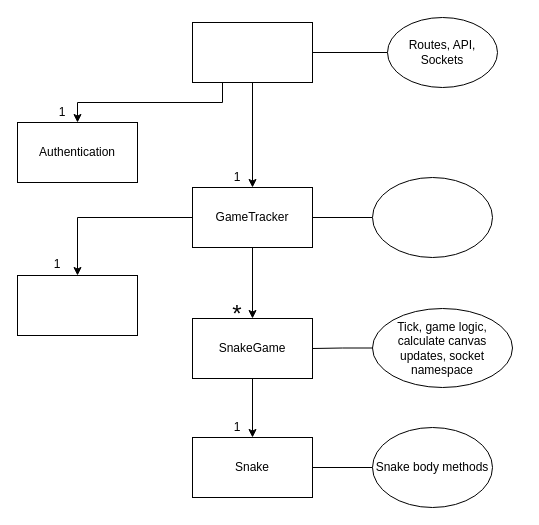
This 539x525 diagram has some shape labels left out. The shapes that lost their labels are listed below. From the top down, each one's centre as x and y in pixels, then its label:
At (252,52): "Server".
At (432,217): "Creates new games, deletes old games".
At (77,305): "GameStats".
